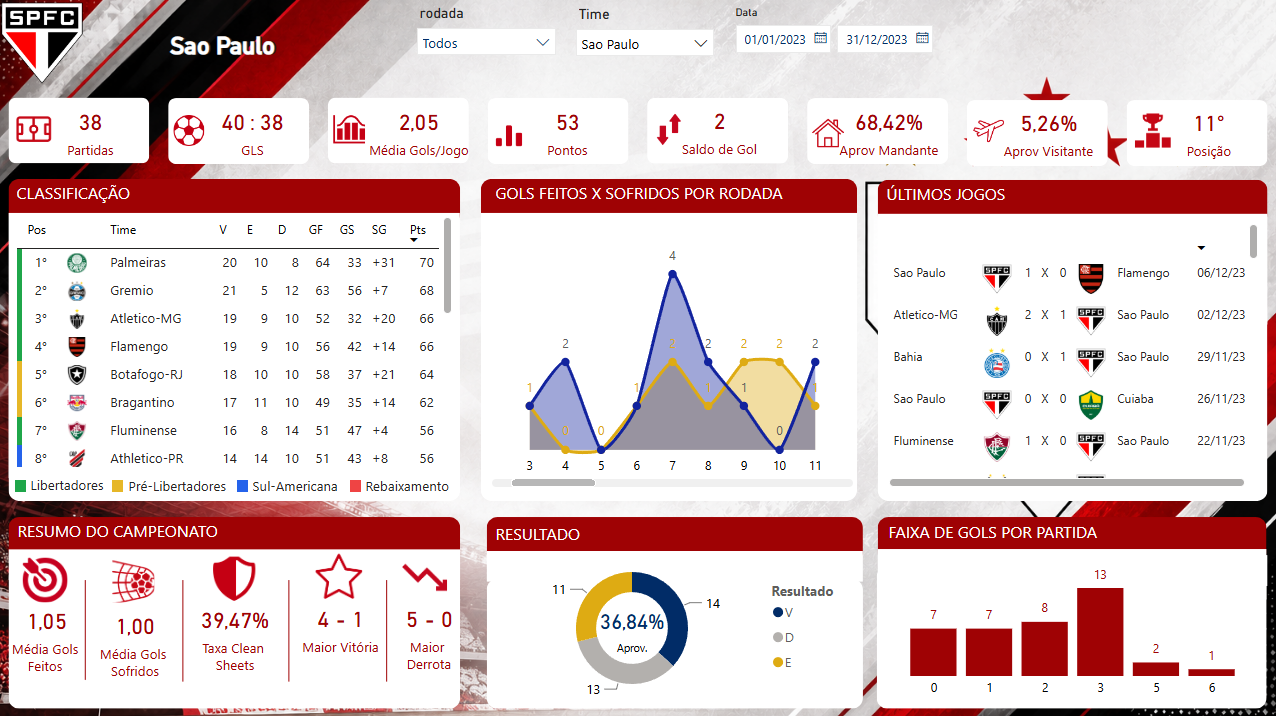

Layout of this report page (visuals, bound fields, positions):
{"tool":"powerbi","page":{"name":"brasileirao","canvas":[1280,720],"ordinal":0},"visuals":[{"type":"image","box":[0,0,1280,720],"z":0},{"type":"slicer","fields":{"Values":["dCalendário.Data"]},"box":[724.4,0.9,228.8,87.8],"z":1000},{"type":"slicer","fields":{"Values":["dTimeFiltro.Time"]},"box":[566.6,0.9,158,64.3],"z":2000},{"type":"slicer","fields":{"Values":["fBrasileirao.rodata"]},"box":[407.9,0,158.7,76.3],"z":3000},{"type":"areaChart","fields":{"Category":["fBrasileirao.rodata"],"Y":["Medidas.Gols Sofridos Filtro","Medidas.Gols Feitos Filtro"]},"box":[487.6,211.7,371.3,280.4],"z":4000},{"type":"tableEx","fields":{"Values":["fBrasileirao.mandante","dTimeMandante.logo","fBrasileirao.mandante_Placar","fBrasileirao.X","fBrasileirao.visitante_Placar","dTimeVisitante.logo","fBrasileirao.visitante","fBrasileirao.data"]},"box":[884.4,219.4,380.1,272.6],"z":5000},{"type":"card","fields":{"Values":["Medidas.Partidas Filtro"]},"box":[21,97,141,66],"z":6000},{"type":"card","fields":{"Values":["Medidas.Pontos Filtro"]},"box":[498,97,141,67],"z":7000},{"type":"card","fields":{"Values":["Medidas.Saldo de Gol Filtro"]},"box":[650,96,141,67],"z":8000},{"type":"tableEx","fields":{"Values":["Medidas.dumb","Medidas.POS","dTime.logo","dTime.time","Medidas.Vitórias","Medidas.Empates","Medidas.Derrotas","Medidas.Gols Feitos","Medidas.Gols Sofridos","Medidas.Saldo de Gol Formatado","Medidas.Total pontos"]},"box":[11.5,211.9,446.9,259.8],"z":9000},{"type":"card","fields":{"Values":["Medidas.Posição Filtro Format"]},"box":[1140,98,140,67],"z":10000},{"type":"card","fields":{"Values":["Medidas.Aproveitamento Visitante Filtro"]},"box":[979,98,141,66],"z":11000},{"type":"card","fields":{"Values":["Medidas.GLS Filtro"]},"box":[183,97,141,66],"z":12000},{"type":"card","fields":{"Values":["Medidas.Média Gols por Jogo Filtro"]},"box":[364,97,112,67],"z":13000},{"type":"donutChart","fields":{"Category":["dResultado.Resultado"],"Y":["Medidas.Total Resultado Filtro"]},"box":[487.6,549.7,371.3,156.3],"z":14000},{"type":"card","fields":{"Values":["Medidas.Aproveitamento Filtro"]},"box":[592,593,82,73],"z":15000},{"type":"card","fields":{"Values":["Medidas.Média Gols Feitos Filtro"]},"box":[4,547,88,164],"z":16000},{"type":"card","fields":{"Values":["Medidas.Média Gols Sofridos Filtro"]},"box":[87.5,549.3,96.4,170.7],"z":17000},{"type":"card","fields":{"Values":["Medidas.Taxa Clean Sheets Filtro"]},"box":[191.7,549.7,88,156.3],"z":18000},{"type":"columnChart","fields":{"Category":["fBrasileirao.Faixa_gols"],"Y":["Medidas.Partidas Filtro"]},"box":[884.4,549.7,380.1,156.3],"z":19000},{"type":"card","fields":{"Values":["Medidas.Maior Vitória Filtro"]},"box":[297,546.4,88.7,162.9],"z":20000},{"type":"card","fields":{"Values":["Medidas.Maior Derrota Filtro"]},"box":[385.7,546.4,88,162.9],"z":21000},{"type":"card","fields":{"Values":["Medidas.Aproveitamento Mandante Filtro"]},"box":[827,97,126,67],"z":22000},{"type":"textbox","box":[13.3,177.3,175.1,42.1],"z":23000},{"type":"textbox","box":[492.1,177.3,317,42.1],"z":24000},{"type":"textbox","box":[883.3,178.4,233.8,42.1],"z":25000},{"type":"textbox","box":[885.5,516.4,233.8,42.1],"z":26000},{"type":"textbox","box":[492.1,517.5,233.8,42.1],"z":27000},{"type":"textbox","box":[14.4,515.3,233.8,42.1],"z":28000},{"type":"textbox","box":[27.1,471.2,91.3,28.4],"z":29000},{"type":"shape","box":[16.4,479.9,10.6,12.6],"z":30000},{"type":"shape","box":[113.2,479.9,10.6,12.6],"z":31000},{"type":"textbox","box":[124.8,472.1,123.8,28.1],"z":32000},{"type":"shape","box":[238,479.9,10.6,12.6],"z":33000},{"type":"textbox","box":[248.6,472.1,108.4,28.1],"z":34000},{"type":"shape","box":[351.2,479.9,10.6,12.6],"z":35000},{"type":"textbox","box":[361.8,472.1,102.6,28.1],"z":36000},{"type":"card","fields":{"Values":["Medidas.Nome Time"]},"box":[126,0,199,89],"z":37000},{"type":"card","fields":{"Values":["Medidas.Nome Time"]},"box":[124,0,199,89],"z":38000}]}

Visuals, with their boxes in screenshot pixels (x1, y1, x2, y2), scaled from the page's 1280x720 canvas onto the 1276x716 screenshot:
image: {"x1": 0, "y1": 0, "x2": 1275, "y2": 715}
slicer - dCalendário.Data: {"x1": 722, "y1": 1, "x2": 950, "y2": 88}
slicer - dTimeFiltro.Time: {"x1": 565, "y1": 1, "x2": 722, "y2": 65}
slicer - fBrasileirao.rodata: {"x1": 407, "y1": 0, "x2": 565, "y2": 76}
areaChart - fBrasileirao.rodata x Medidas.Gols Sofridos Filtro: {"x1": 486, "y1": 211, "x2": 856, "y2": 489}
tableEx - fBrasileirao.mandante x dTimeMandante.logo: {"x1": 882, "y1": 218, "x2": 1261, "y2": 489}
card - Medidas.Partidas Filtro: {"x1": 21, "y1": 96, "x2": 161, "y2": 162}
card - Medidas.Pontos Filtro: {"x1": 496, "y1": 96, "x2": 637, "y2": 163}
card - Medidas.Saldo de Gol Filtro: {"x1": 648, "y1": 95, "x2": 789, "y2": 162}
tableEx - Medidas.dumb x Medidas.POS: {"x1": 11, "y1": 211, "x2": 457, "y2": 469}
card - Medidas.Posição Filtro Format: {"x1": 1136, "y1": 97, "x2": 1275, "y2": 164}
card - Medidas.Aproveitamento Visitante Filtro: {"x1": 976, "y1": 97, "x2": 1116, "y2": 163}
card - Medidas.GLS Filtro: {"x1": 182, "y1": 96, "x2": 323, "y2": 162}
card - Medidas.Média Gols por Jogo Filtro: {"x1": 363, "y1": 96, "x2": 475, "y2": 163}
donutChart - dResultado.Resultado x Medidas.Total Resultado Filtro: {"x1": 486, "y1": 547, "x2": 856, "y2": 702}
card - Medidas.Aproveitamento Filtro: {"x1": 590, "y1": 590, "x2": 672, "y2": 662}
card - Medidas.Média Gols Feitos Filtro: {"x1": 4, "y1": 544, "x2": 92, "y2": 707}
card - Medidas.Média Gols Sofridos Filtro: {"x1": 87, "y1": 546, "x2": 183, "y2": 715}
card - Medidas.Taxa Clean Sheets Filtro: {"x1": 191, "y1": 547, "x2": 279, "y2": 702}
columnChart - fBrasileirao.Faixa_gols x Medidas.Partidas Filtro: {"x1": 882, "y1": 547, "x2": 1261, "y2": 702}
card - Medidas.Maior Vitória Filtro: {"x1": 296, "y1": 543, "x2": 384, "y2": 705}
card - Medidas.Maior Derrota Filtro: {"x1": 384, "y1": 543, "x2": 472, "y2": 705}
card - Medidas.Aproveitamento Mandante Filtro: {"x1": 824, "y1": 96, "x2": 950, "y2": 163}
textbox: {"x1": 13, "y1": 176, "x2": 188, "y2": 218}
textbox: {"x1": 491, "y1": 176, "x2": 807, "y2": 218}
textbox: {"x1": 881, "y1": 177, "x2": 1114, "y2": 219}
textbox: {"x1": 883, "y1": 514, "x2": 1116, "y2": 555}
textbox: {"x1": 491, "y1": 515, "x2": 724, "y2": 556}
textbox: {"x1": 14, "y1": 512, "x2": 247, "y2": 554}
textbox: {"x1": 27, "y1": 469, "x2": 118, "y2": 497}
shape: {"x1": 16, "y1": 477, "x2": 27, "y2": 490}
shape: {"x1": 113, "y1": 477, "x2": 123, "y2": 490}
textbox: {"x1": 124, "y1": 469, "x2": 248, "y2": 497}
shape: {"x1": 237, "y1": 477, "x2": 248, "y2": 490}
textbox: {"x1": 248, "y1": 469, "x2": 356, "y2": 497}
shape: {"x1": 350, "y1": 477, "x2": 361, "y2": 490}
textbox: {"x1": 361, "y1": 469, "x2": 463, "y2": 497}
card - Medidas.Nome Time: {"x1": 126, "y1": 0, "x2": 324, "y2": 89}
card - Medidas.Nome Time: {"x1": 124, "y1": 0, "x2": 322, "y2": 89}
